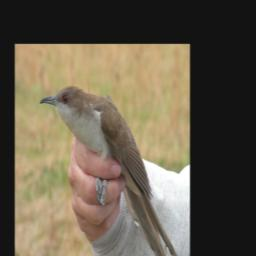Cuckoo: (39, 85, 181, 256)
